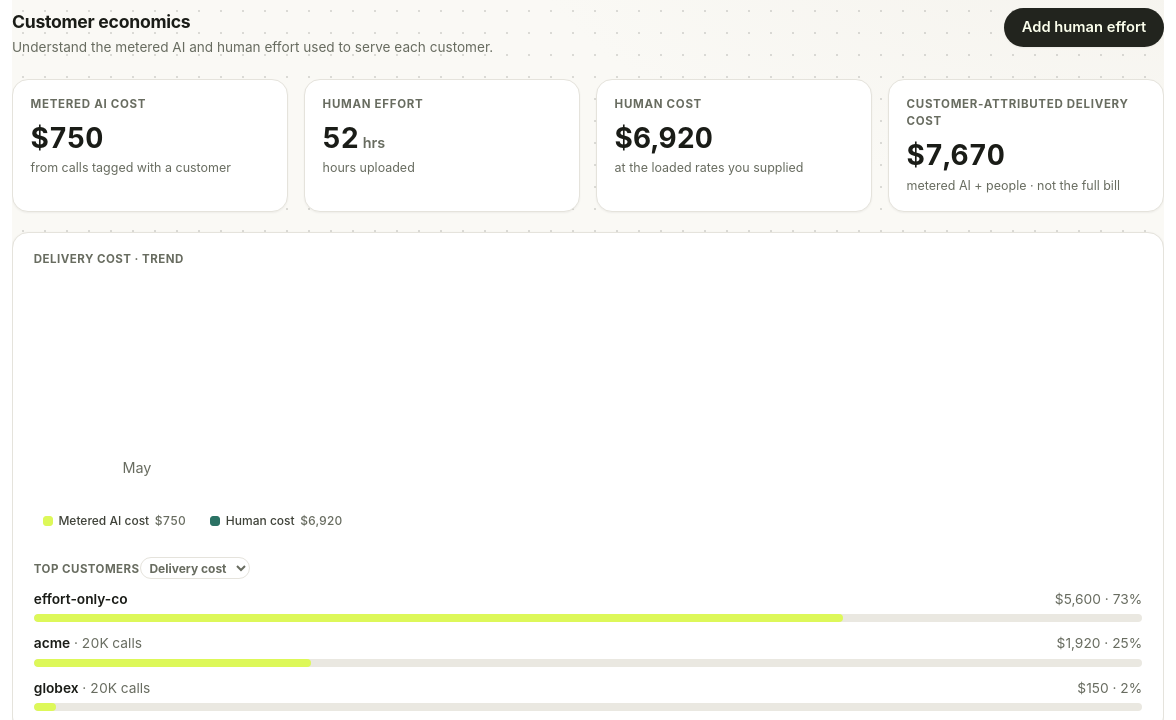
top customers › changes the ranking when the metric changes
Expected: the heading "Customer economics" is shown, [12, 11, 190, 32]
Select "AI cost" in the dropdown named "rank customers by": (195, 568) [140, 557, 250, 579]
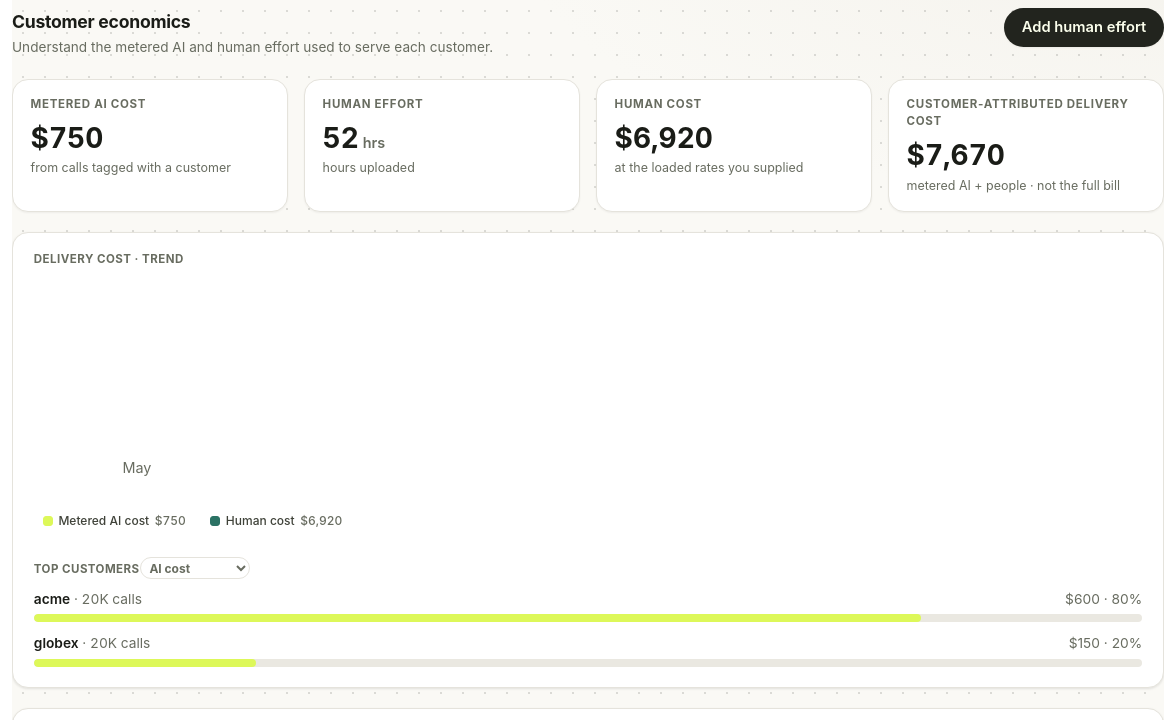
Expected: the element showing "acme · 20K calls" is shown, [34, 589, 142, 610]
// Hours are rendered as hours, not as dollars.
Select "Human hours" in the dropdown named "rank customers by": (195, 568) [140, 557, 250, 579]
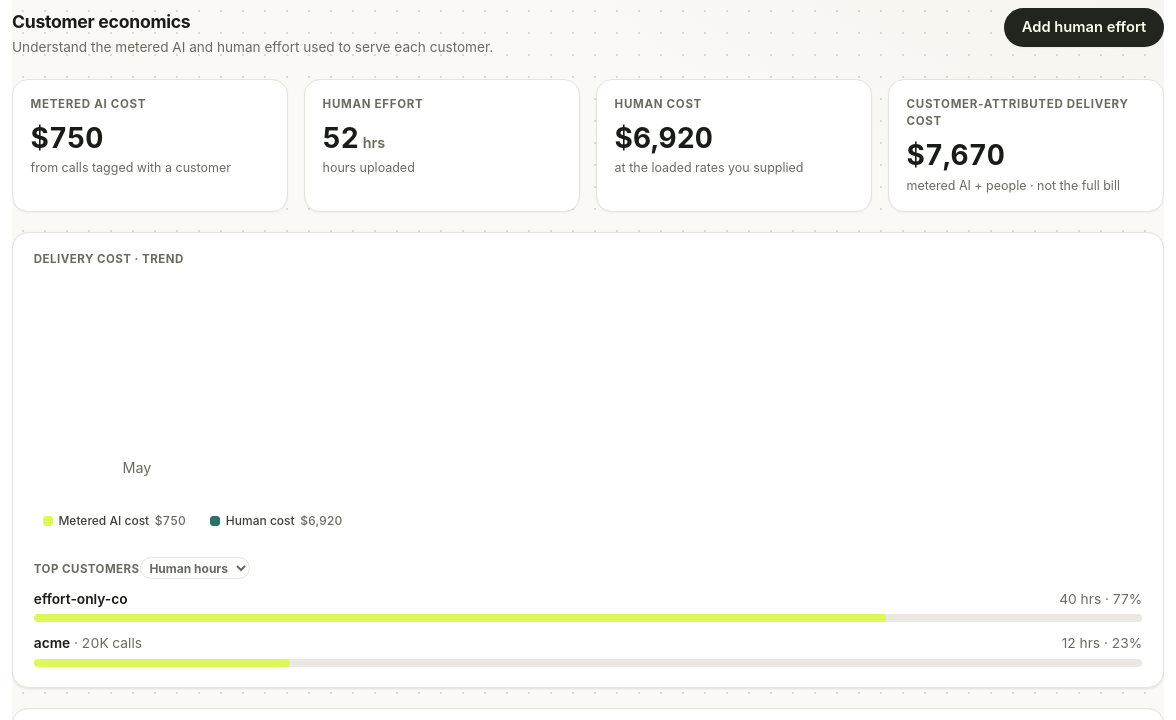
Now the text "40 hrs · 77%" is shown, box [1059, 589, 1142, 610]
